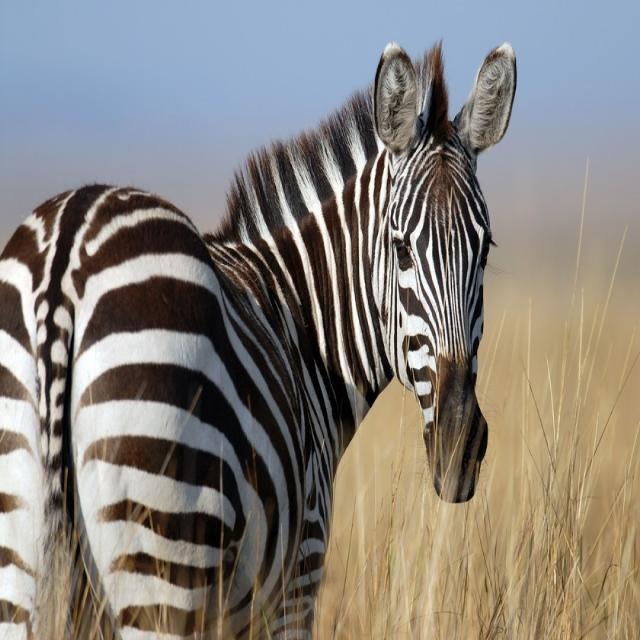Herbivorous: (0, 41, 519, 640)
